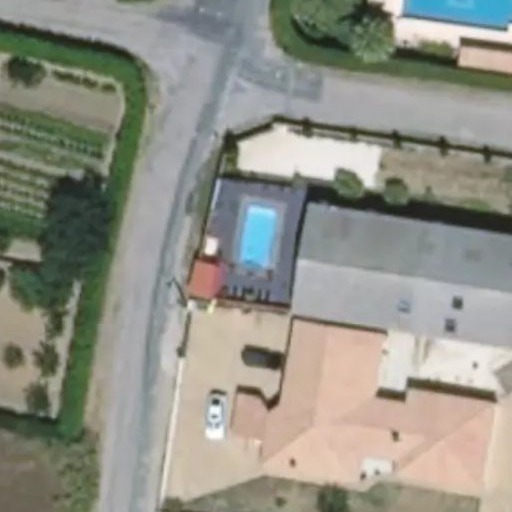pool: (235, 204, 278, 273)
